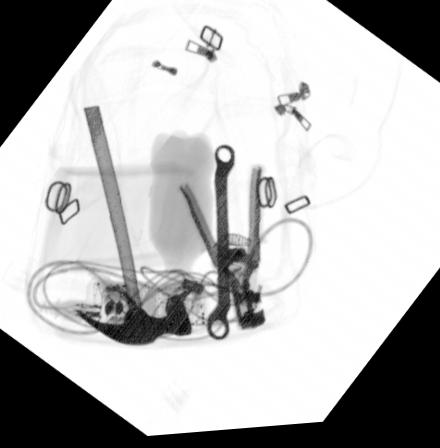Hammer: (69, 104, 189, 349)
Pliers: (171, 164, 261, 321)
Wrench: (203, 145, 236, 342)
